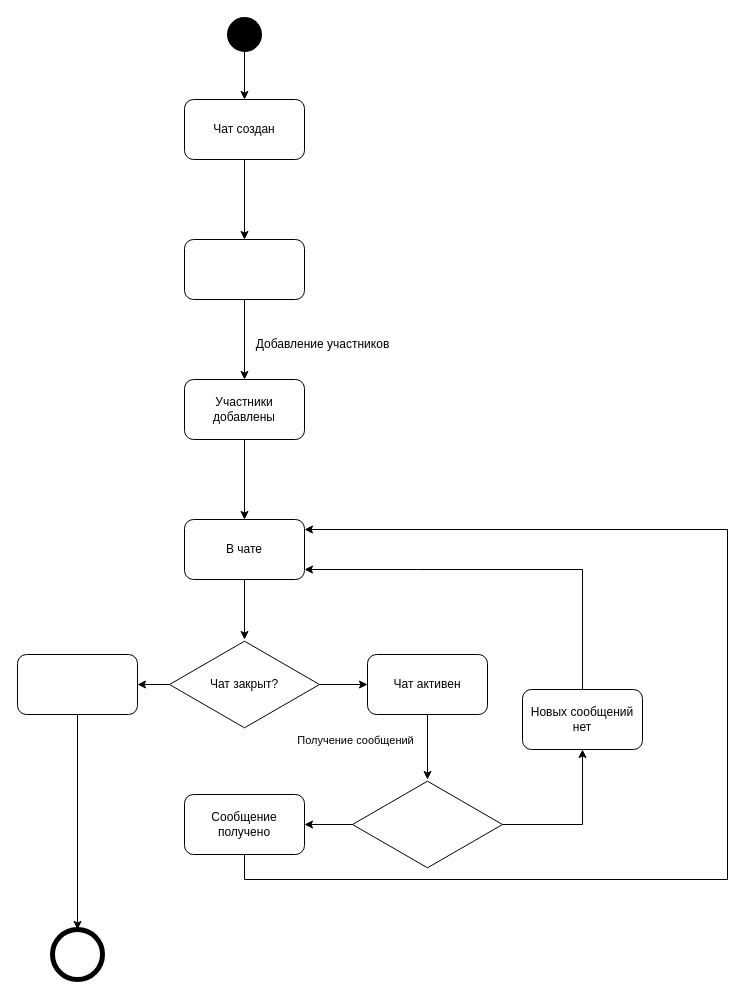
This 753x999 diagram has some shape labels left out. The centre of each missing label's shape, as x and y in pixels:
"Добавление пользователей" belongs at pixel 244 269.
"Есть новые сообщения?" belongs at pixel 427 824.
"Чат закрыт" belongs at pixel 77 684.
